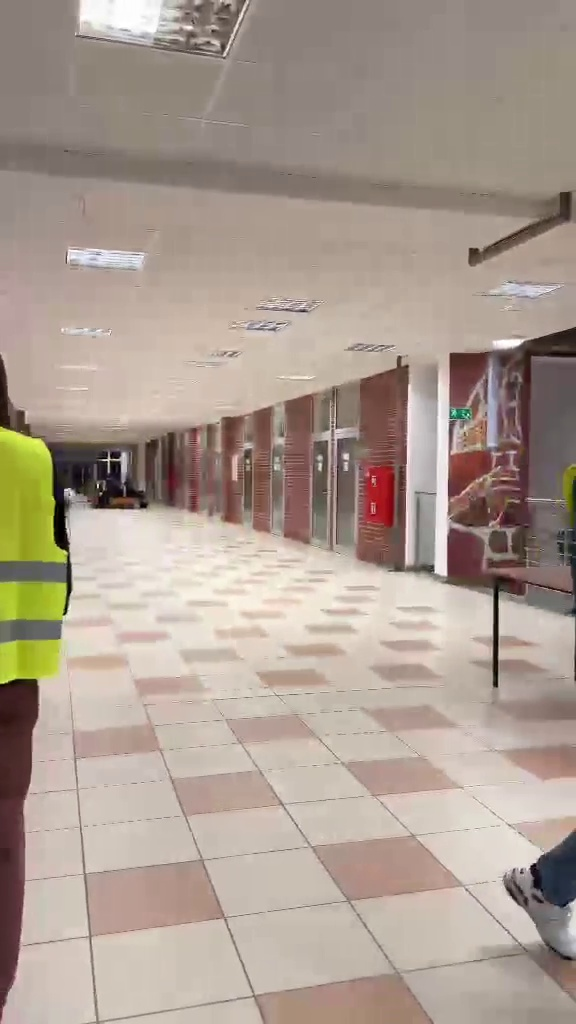vest: (0, 348, 73, 996)
